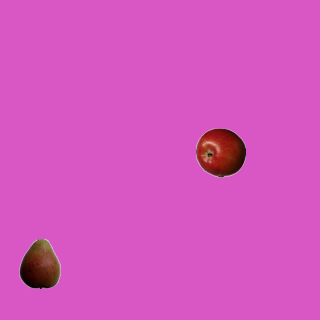Apple Braeburn: (195, 127, 245, 177)
Pear Forelle: (14, 238, 64, 288)
